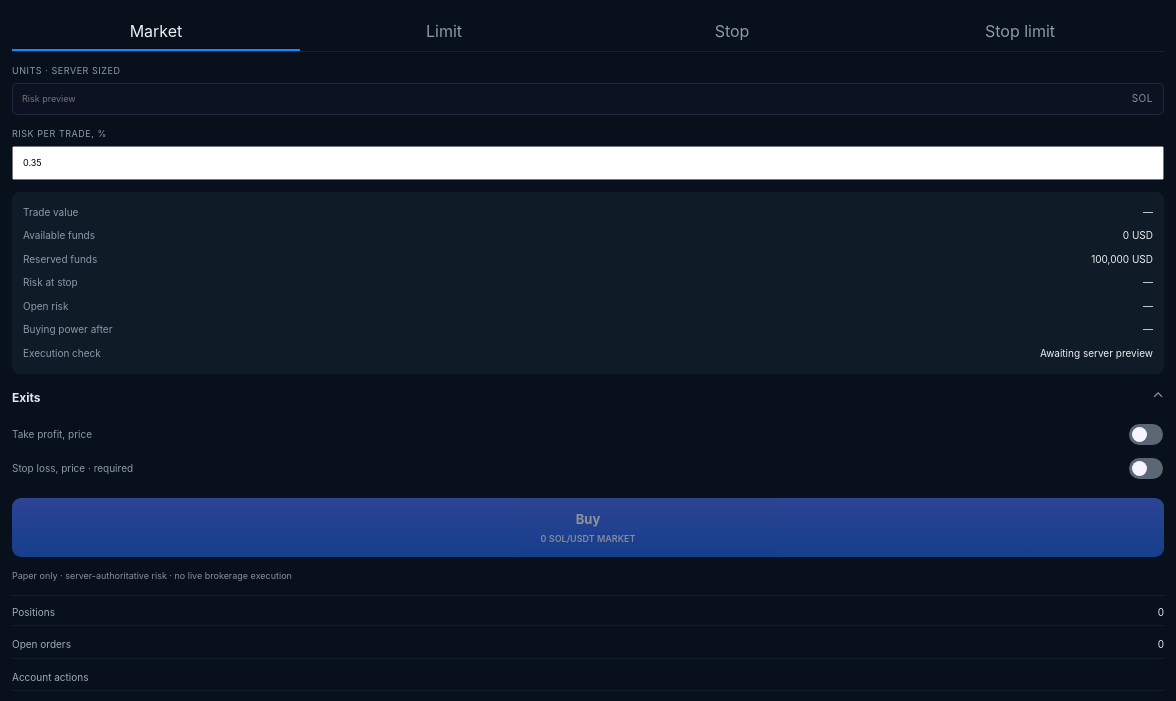
Test: TradingPaperPanel › shows the server rejection when a risk-sized order cannot be funded
(page scrolled)
Click the switch named "Enable stop loss" at coordinates (1146, 469), box [1129,458,1163,479]
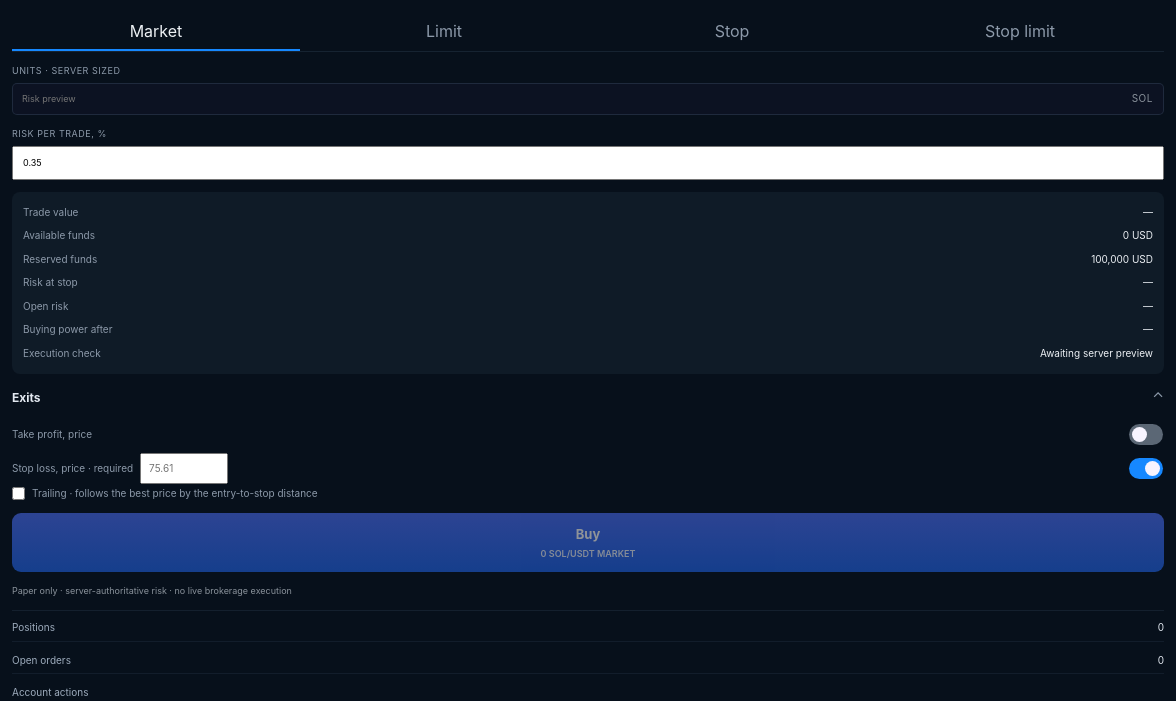
Type "74.50" into the field named "Stop loss price" at coordinates (184, 469), box [140,453,228,484]
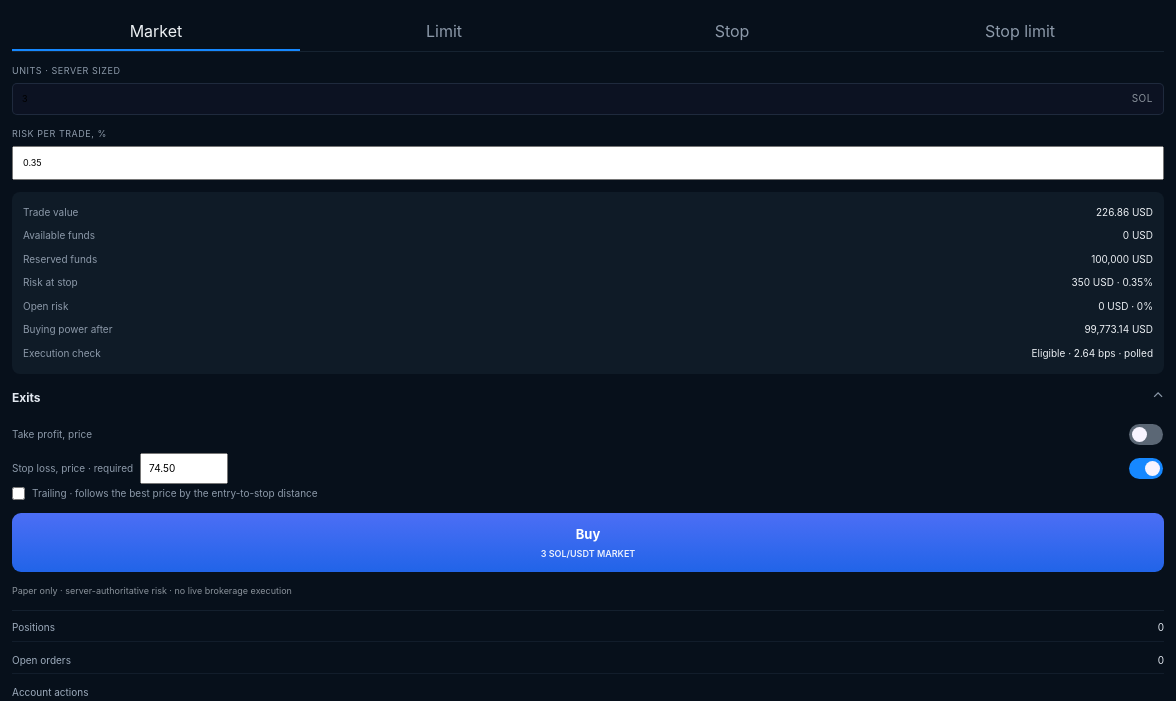
Check: the button "Buy 3 SOL/USDT MARKET" is shown
Check: the field named "Order quantity" holds "3", box [13,84,1122,114]
Click the button "Buy 3 SOL/USDT MARKET" at coordinates (588, 543), box [12,513,1164,572]
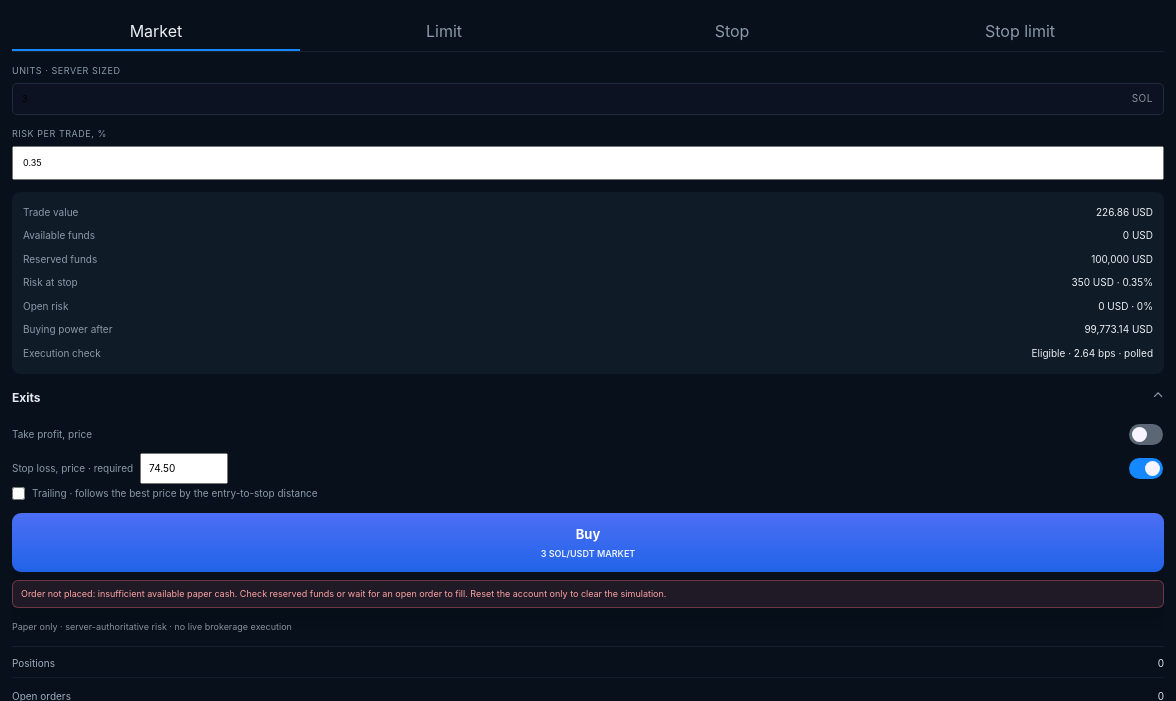
Check: the message shows "Order not placed: insufficient available paper cash. Check reserved funds or wait for an open order to fill.", box [21,588,666,599]
